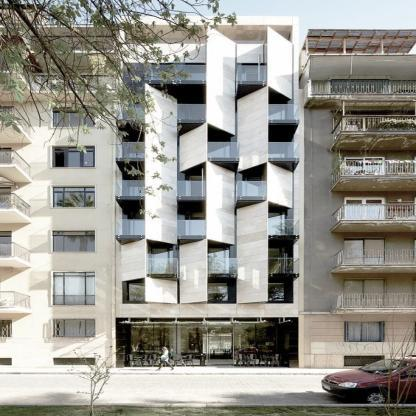Balcony: (145, 65, 207, 81), (235, 181, 267, 197), (208, 142, 240, 158), (268, 258, 299, 274), (146, 258, 177, 274), (268, 219, 299, 235), (268, 142, 299, 158), (268, 104, 299, 120), (177, 219, 207, 235), (177, 181, 207, 197), (115, 142, 145, 158), (236, 66, 267, 81), (208, 258, 237, 274), (116, 219, 145, 235), (177, 104, 206, 120), (116, 104, 145, 120), (115, 181, 145, 196)
Building Outline: (114, 15, 304, 368)
Door: (177, 321, 235, 365)
Facade: (116, 15, 304, 368)
Floor Slab: (115, 158, 299, 162), (116, 120, 299, 124), (123, 81, 294, 85), (116, 235, 299, 238), (116, 197, 299, 200), (121, 312, 299, 315), (121, 274, 299, 277)
Glass Wall: (131, 321, 177, 365), (235, 321, 281, 365)
Pillar: (145, 83, 177, 245), (206, 24, 235, 135), (237, 201, 268, 304), (238, 85, 268, 172), (207, 161, 235, 245), (267, 25, 293, 100), (179, 239, 207, 304), (179, 122, 207, 172), (267, 161, 292, 208), (121, 238, 146, 281), (145, 277, 178, 304)
Window: (124, 24, 292, 44), (242, 64, 263, 89), (126, 101, 147, 126), (185, 101, 206, 126), (264, 249, 285, 273), (208, 249, 229, 273), (264, 210, 285, 234), (184, 210, 205, 234), (128, 210, 149, 234), (128, 173, 149, 197), (242, 173, 263, 197), (126, 136, 147, 160), (151, 64, 171, 89), (266, 101, 286, 126), (186, 64, 206, 89), (186, 173, 206, 197), (209, 136, 229, 160), (266, 136, 286, 160), (151, 249, 169, 273), (207, 283, 228, 300), (268, 283, 285, 300), (128, 283, 145, 300)
